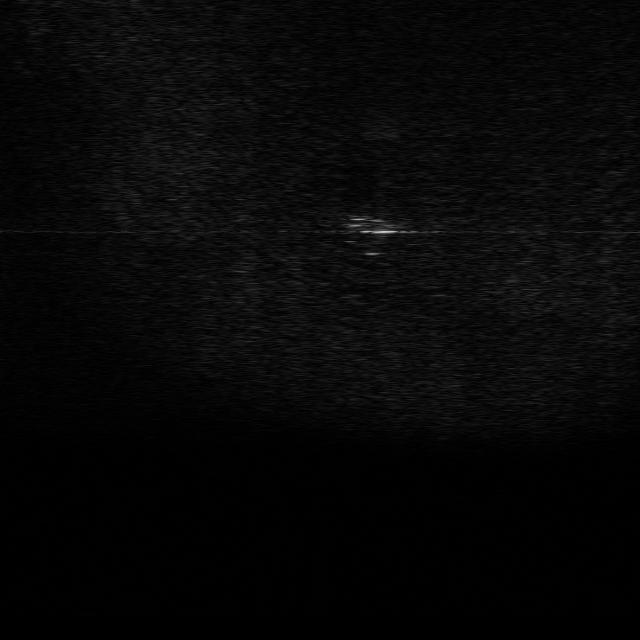plane: (339, 211, 399, 240)
